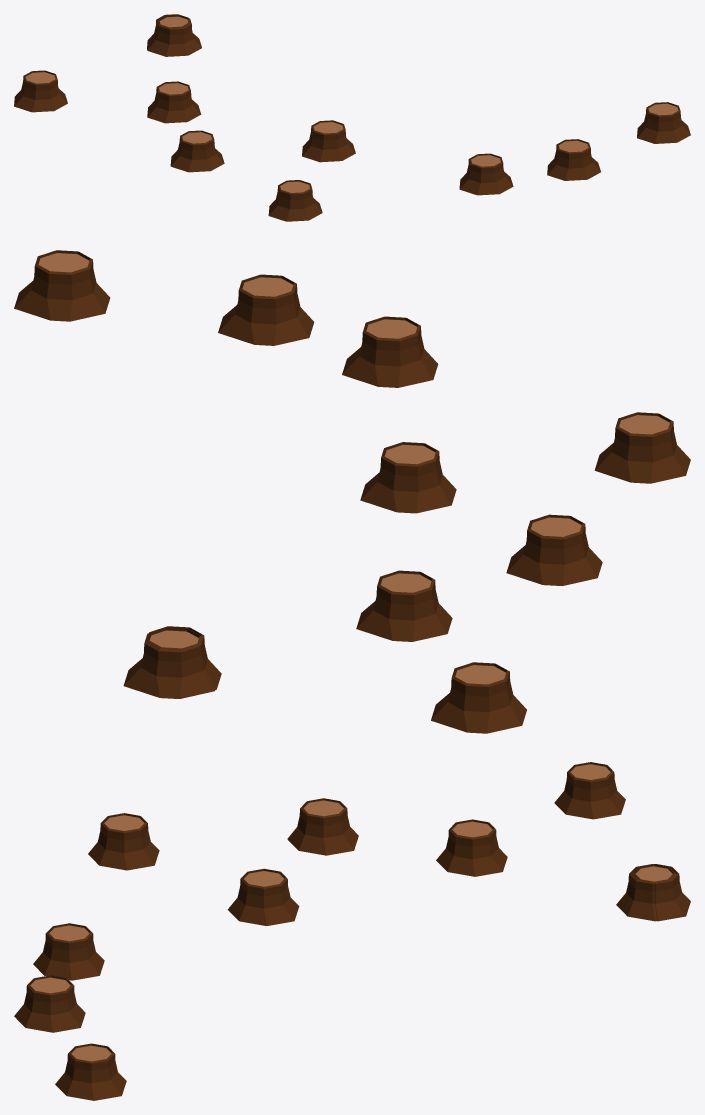
Rendered from stumps_map.fbx.
3 views of the same model, one above another, from view 1: azimuth 30°, elevation 25°; view 2: azimuth 150°, elevation 25°; view 3: azimuth 270°, elevation 25° (orthographic). The views are drawn at different scales.
Parts seen in each view (by area): view 1: MASH2_ReproMesh; view 2: MASH2_ReproMesh; view 3: MASH2_ReproMesh.
Part boxes in pixels (bbox=[...]): MASH2_ReproMesh: bbox=[14, 14, 690, 221]; MASH2_ReproMesh: bbox=[14, 250, 690, 733]; MASH2_ReproMesh: bbox=[14, 762, 690, 1100].
Bounding box in the file's own units: 2917 × 138 × 2653.
